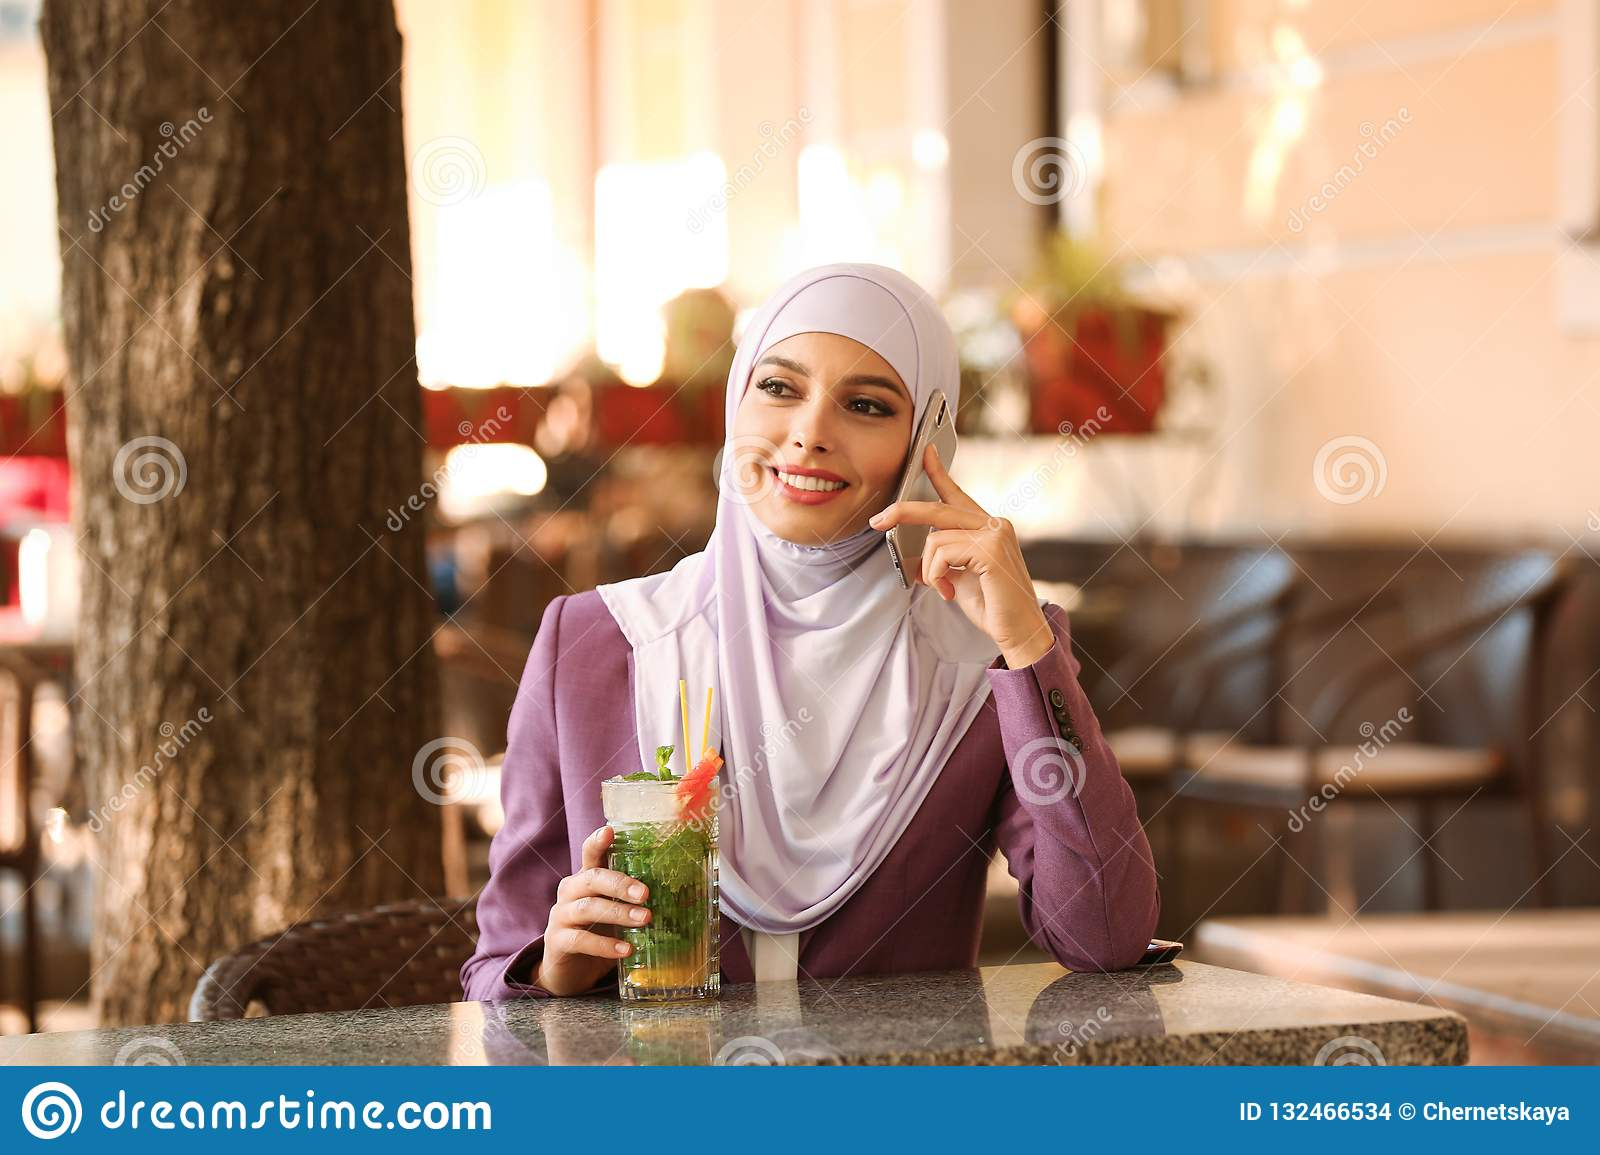phone: (883, 385, 961, 592)
talk: (737, 351, 1051, 668)
